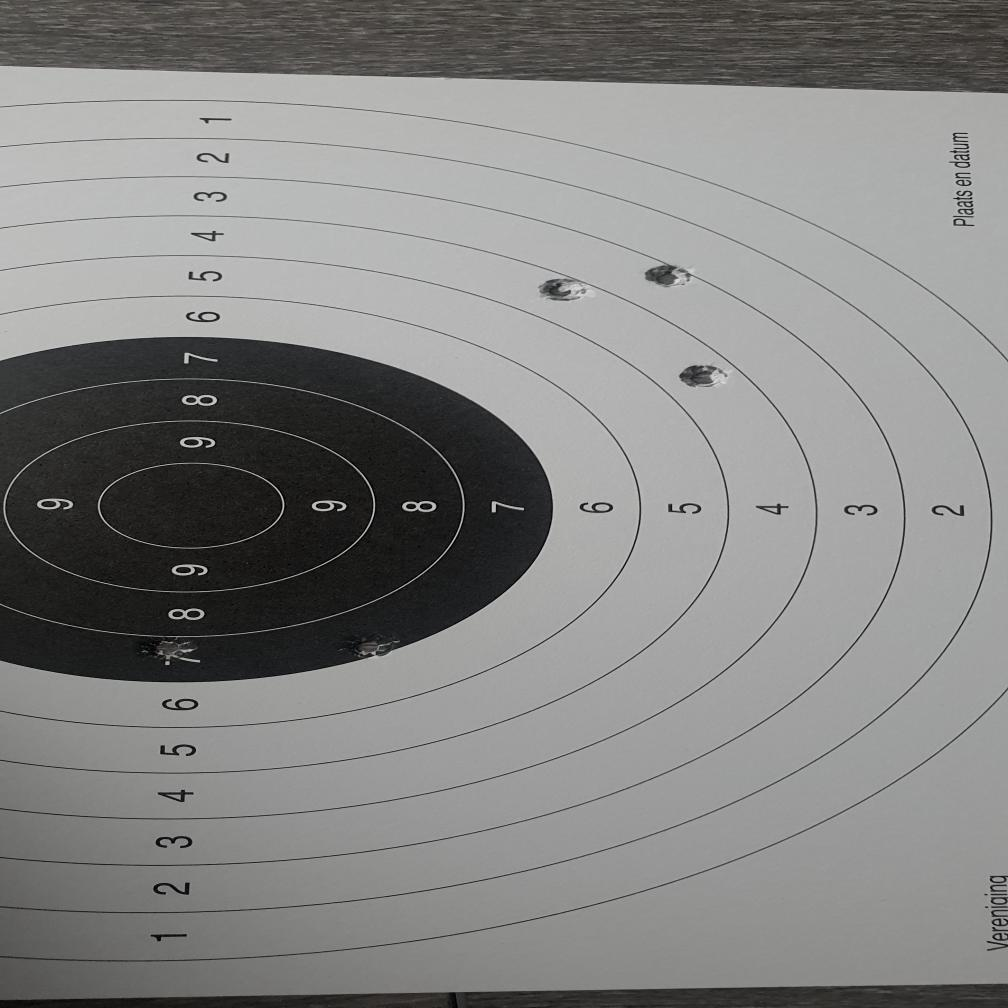3: (640, 263, 694, 288)
4: (674, 364, 735, 390), (537, 277, 594, 302)
7: (130, 635, 203, 662), (338, 631, 402, 660)
Target: (0, 96, 1008, 964)
black_contour: (0, 335, 553, 683)
